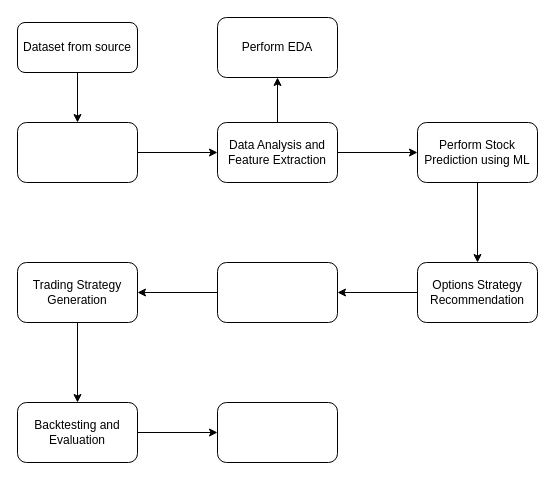
The diagram is 555 pixels wide and 480 high, and some of its shapes have lost their labels. Here are the shapes that lost their labels. From the top down, the box of each, then its label:
(16, 122, 138, 182): Data Collection and Preprocessing
(216, 262, 338, 322): Risk Assessment and Classification
(216, 402, 338, 462): Visualization and Reporting
